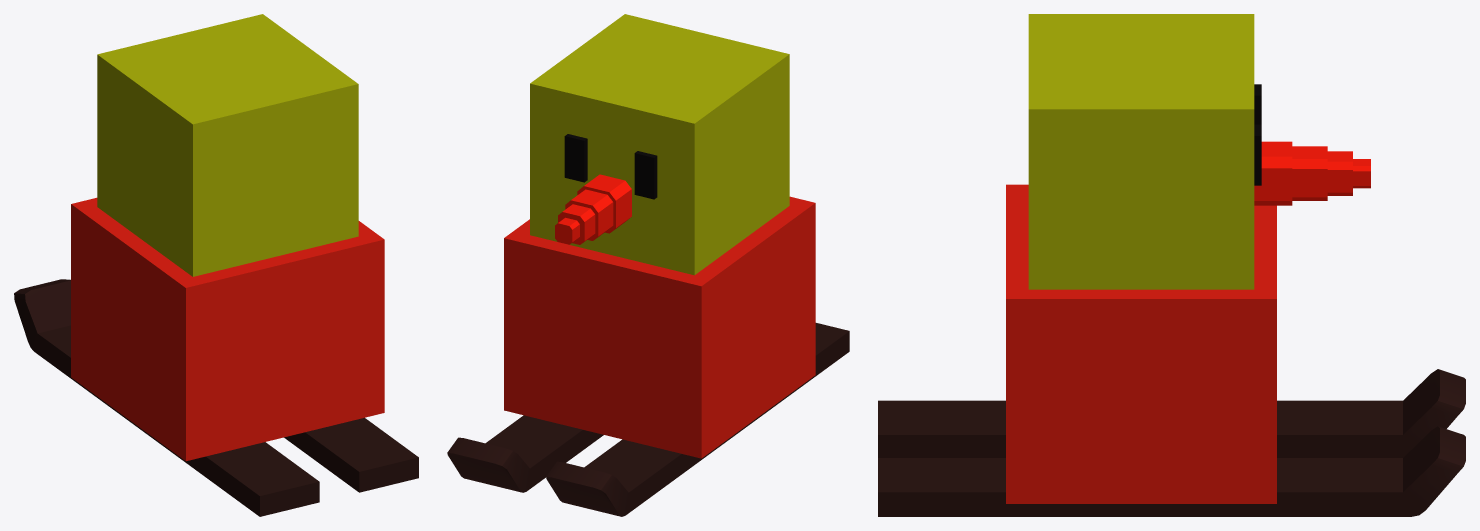
File: Carrot.FBX
3 renders of one model, left to right at view 1: azimuth 30°, elevation 25°; view 2: azimuth 150°, elevation 25°; view 3: azimuth 270°, elevation 25°, orthographic. The views are drawn at different scales.
Visible parts, largest first — view 1: body, Head, ski; view 2: body, Head, ski, nose, Box001; view 3: Head, body, ski, nose, Box001.
Part boxes in pixels (x1,y1,x2,y2): body: [71, 197, 384, 461]; Head: [97, 14, 358, 276]; ski: [14, 279, 418, 516]; body: [504, 196, 815, 458]; Head: [530, 14, 789, 275]; ski: [447, 323, 849, 516]; nose: [555, 174, 631, 244]; Box001: [564, 134, 657, 199]; Head: [1028, 14, 1254, 289]; body: [1006, 184, 1276, 503]; ski: [878, 369, 1465, 516]; nose: [1254, 141, 1370, 205]; Box001: [1254, 84, 1261, 185].
Size of the model in its own units: 30 by 50 by 65.07.
